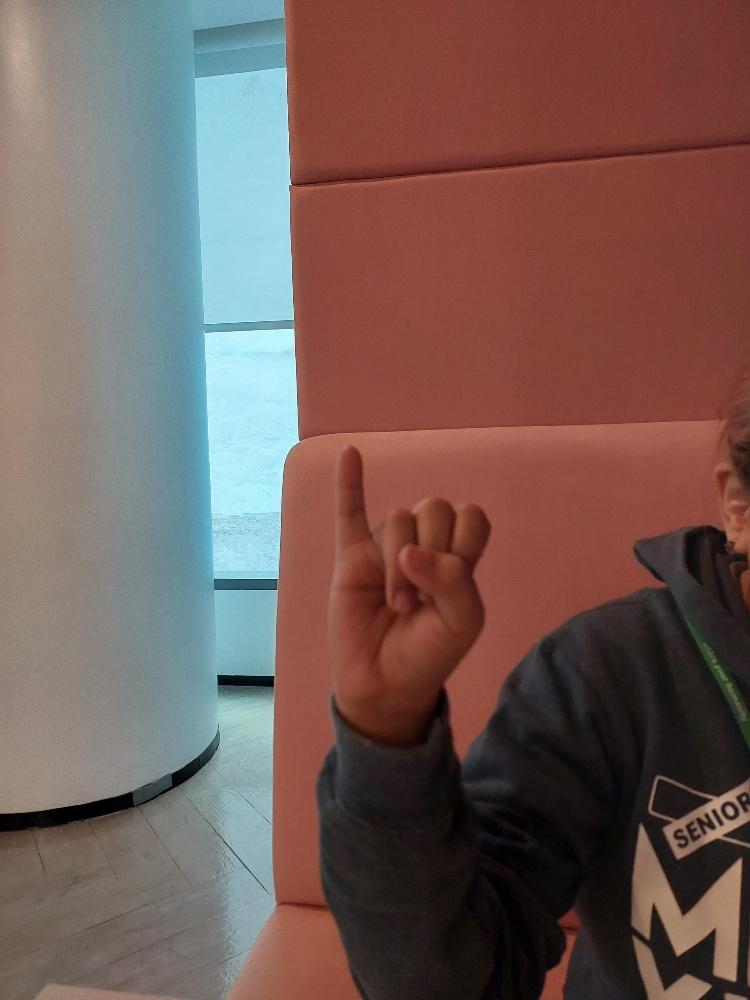i: (320, 437, 496, 725)
